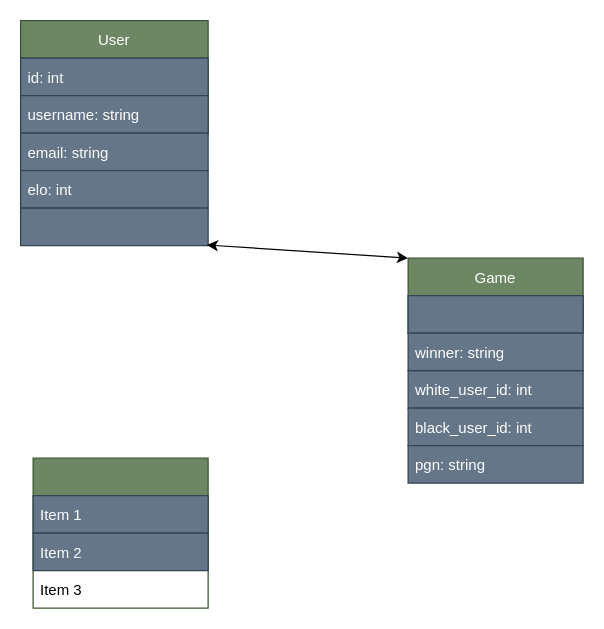
This 604x629 diagram has some shape labels left out. The box of each missing label's shape, as (x1, y1, x2, y2) in pixels:
date: datetime: (407, 294, 583, 333)
List: (32, 457, 208, 608)
password_digest: string: (19, 207, 208, 246)
